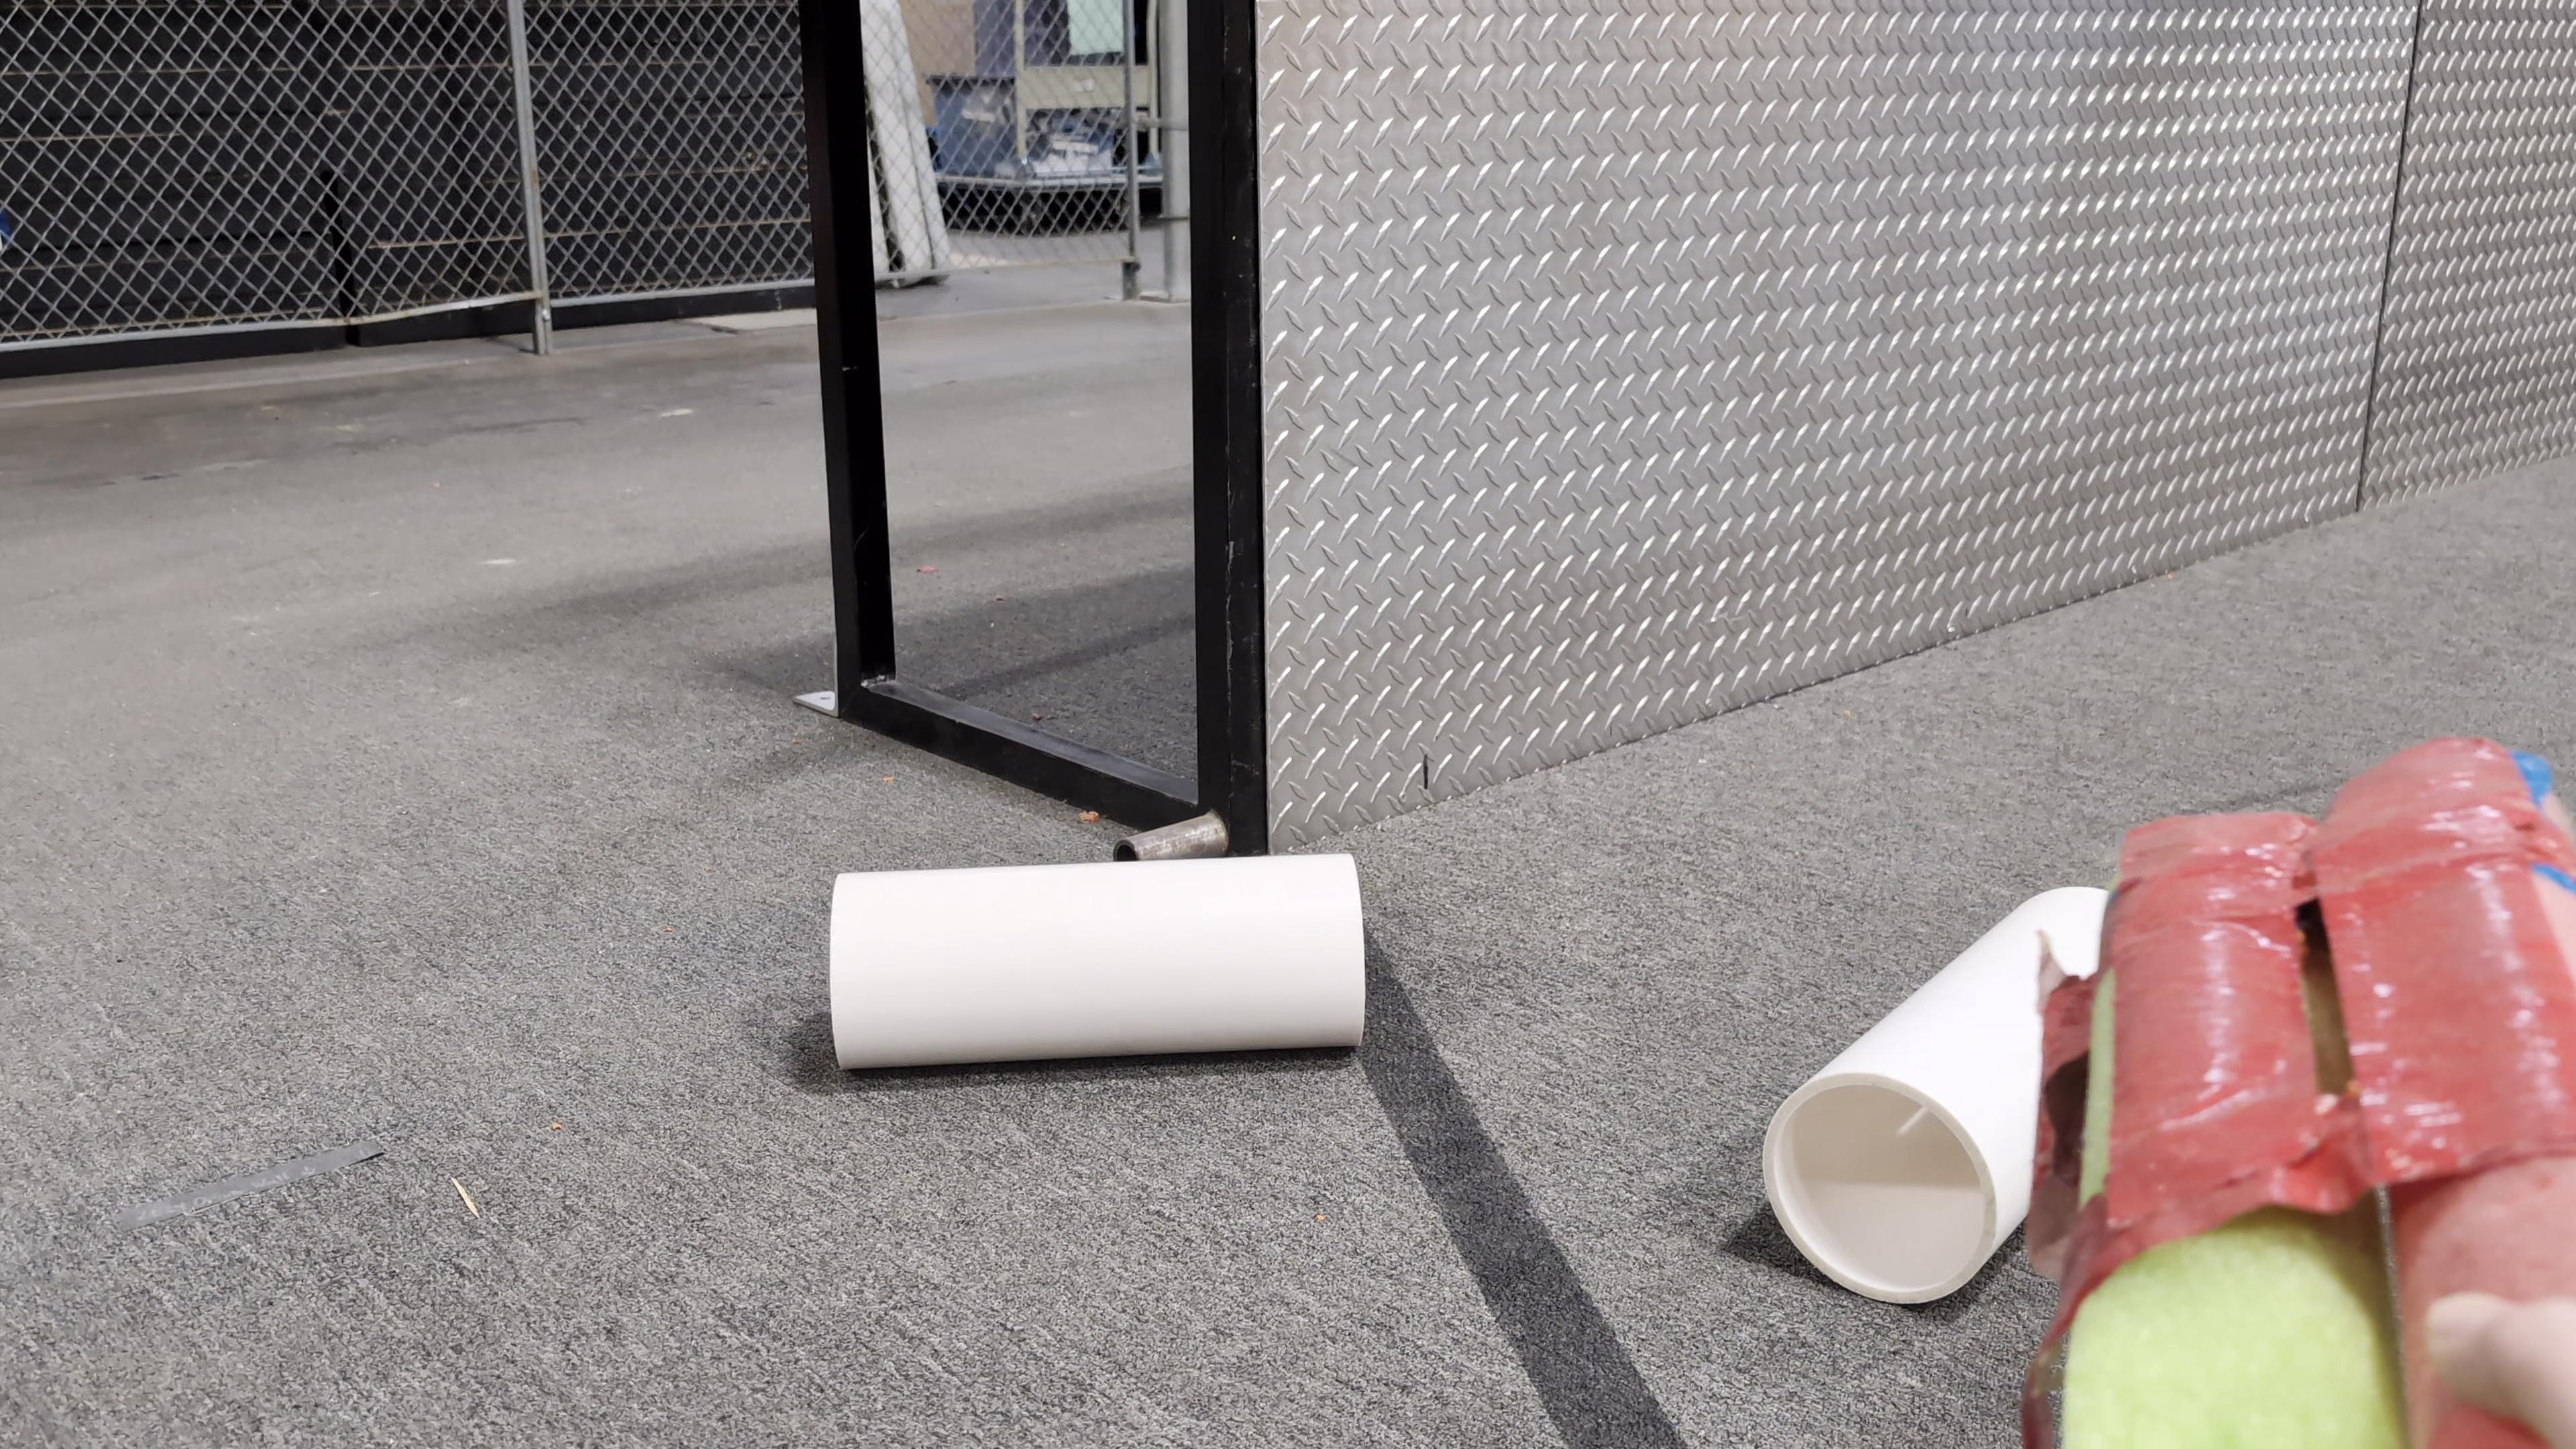coral: (1760, 880, 2099, 1302), (826, 844, 1371, 1069)
